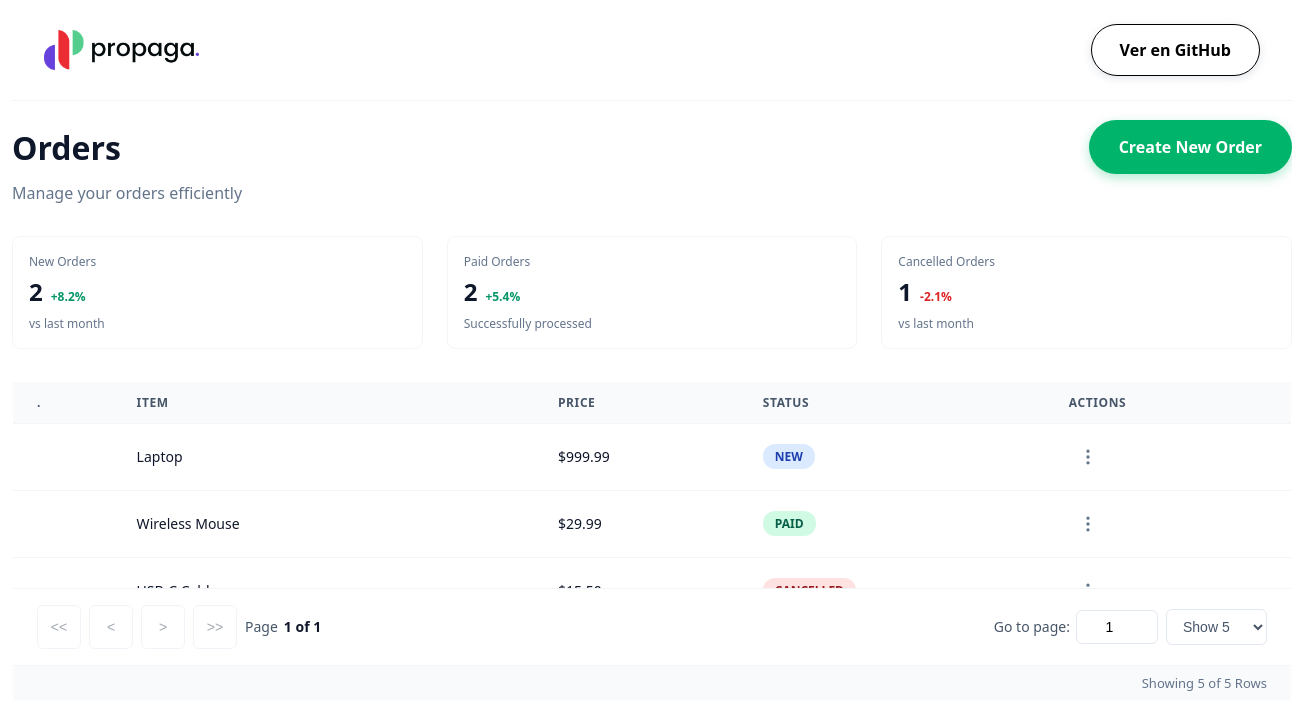
Orders List › Table Interactions › should show correct actions for PAID order
Click the button named "Open menu" in the row of "Wireless Mouse" at (1088, 524), box [1069,505,1107,543]
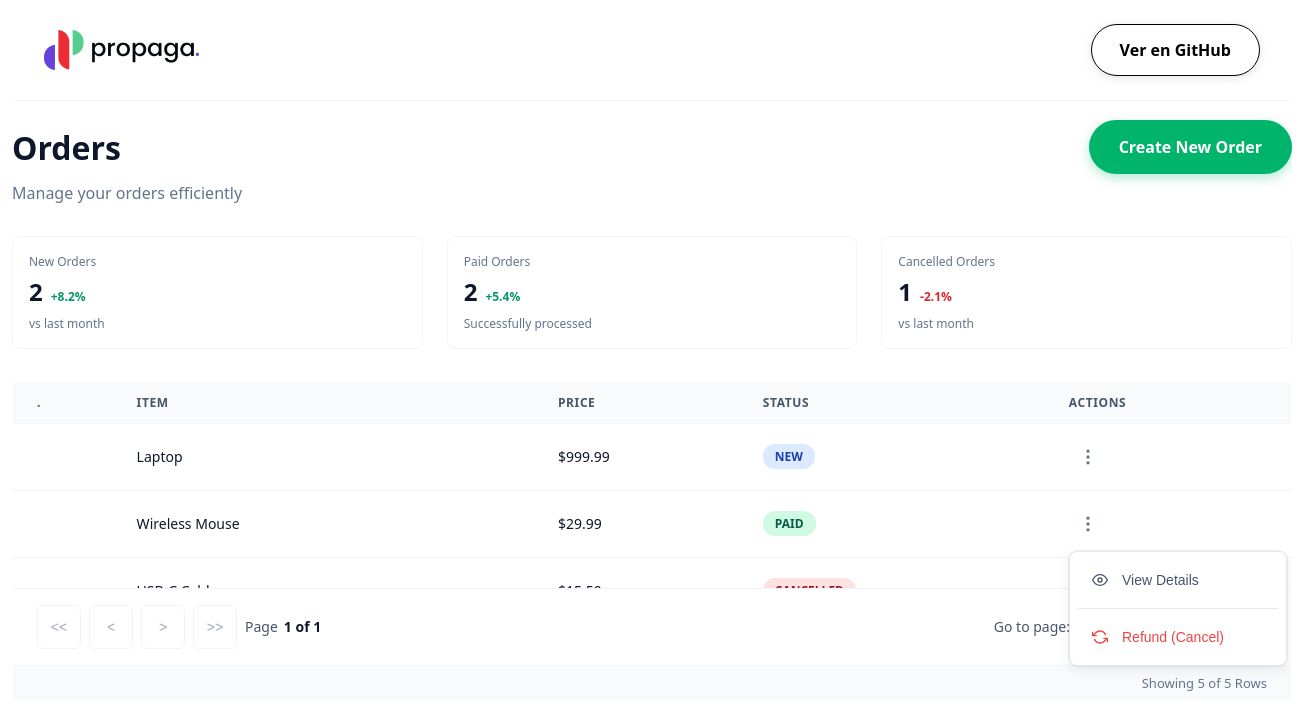
Now the menu item "Refund (Cancel)" is shown, box [1078,617,1278,657]
